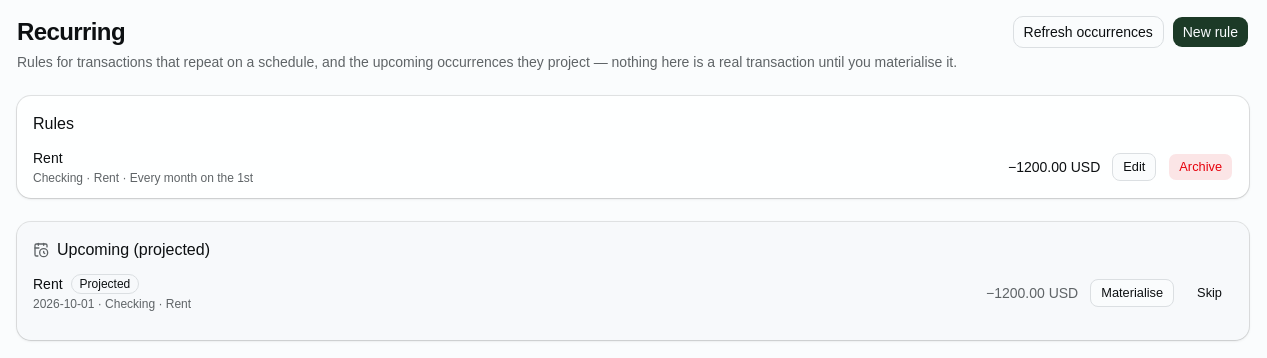
Test: RecurringPage › materialises a pending occurrence, then reloads the list
Expected: the text "Upcoming (projected)" is shown, top-left (33, 241), bottom-right (210, 258)
Click the button "Materialise" at (1132, 293), box top-left (1090, 279), bottom-right (1174, 307)
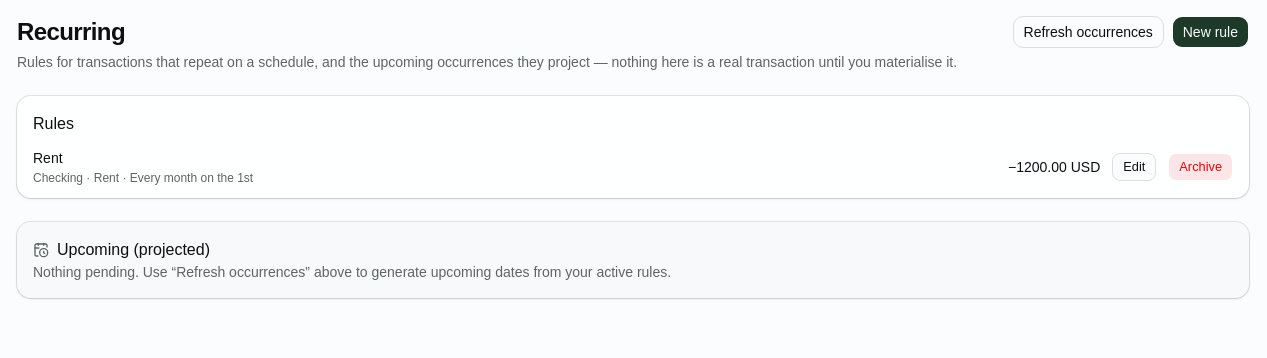
Expected: the text "Nothing pending. Use “Refresh occurrences” above to generate upcoming dates from your active rules." is shown, top-left (33, 264), bottom-right (671, 280)
